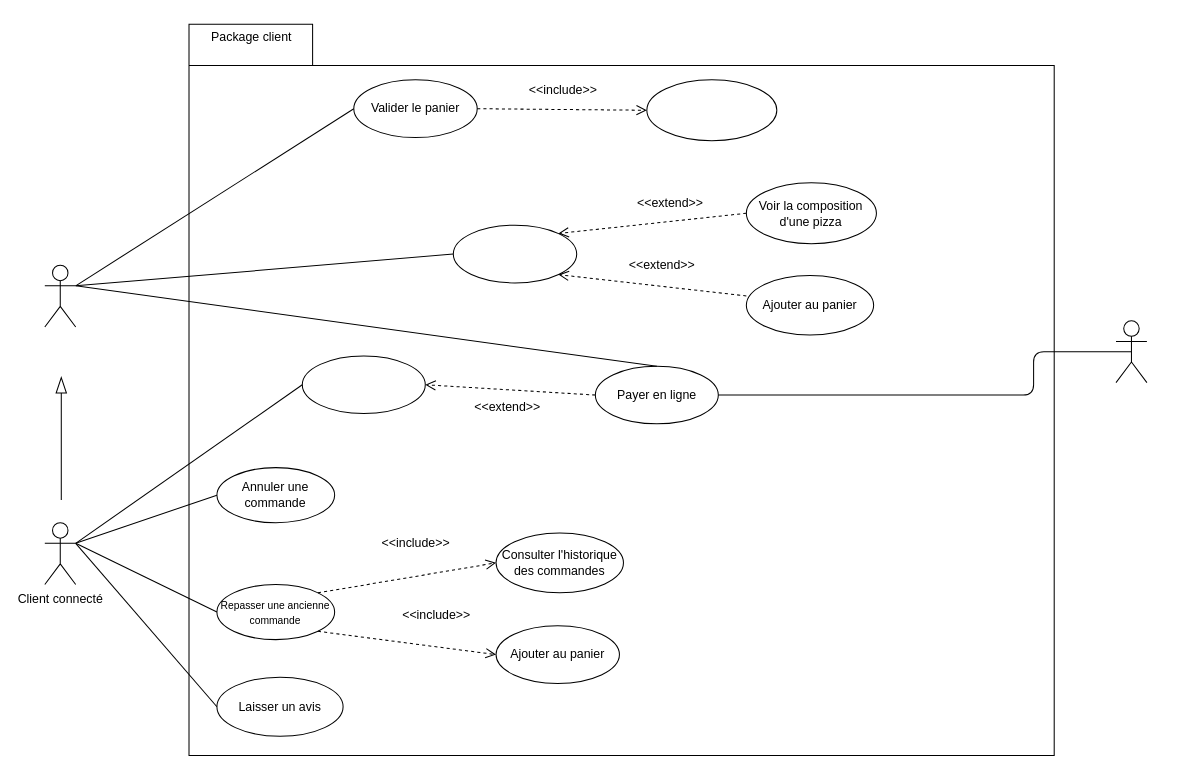
The diagram is 1199 pixels wide and 774 high, and some of its shapes have lost their labels. The centre of each missing label's shape, as x and y in pixels:
"Choisir le mode de paiement" belongs at point 363,384.
"Choisir un mode de retrait" belongs at point 711,110.
"Client non connecté" belongs at point 60,295.
"Consulter le menu" belongs at point 514,253.
"Système bancaire" belongs at point 1131,351.
